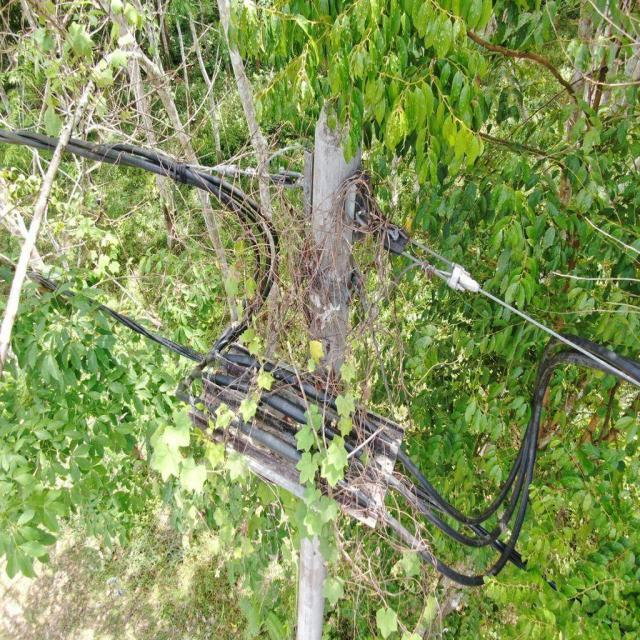critical vegetation: (180, 83, 448, 567)
